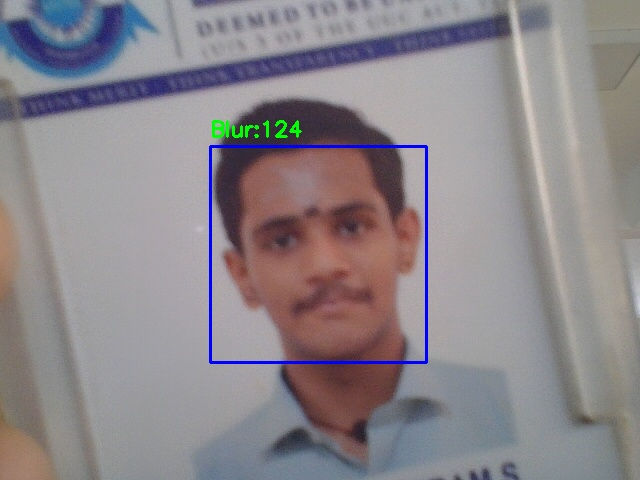fake: (210, 146, 426, 362)
